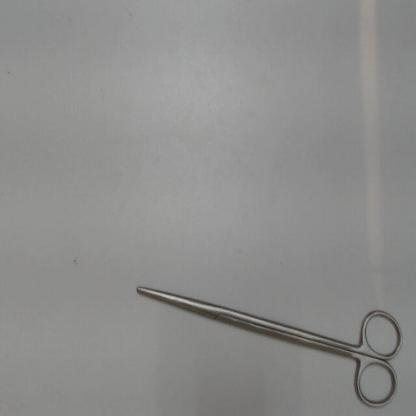9 Metzenbaum Scissors: (134, 282, 408, 413)
